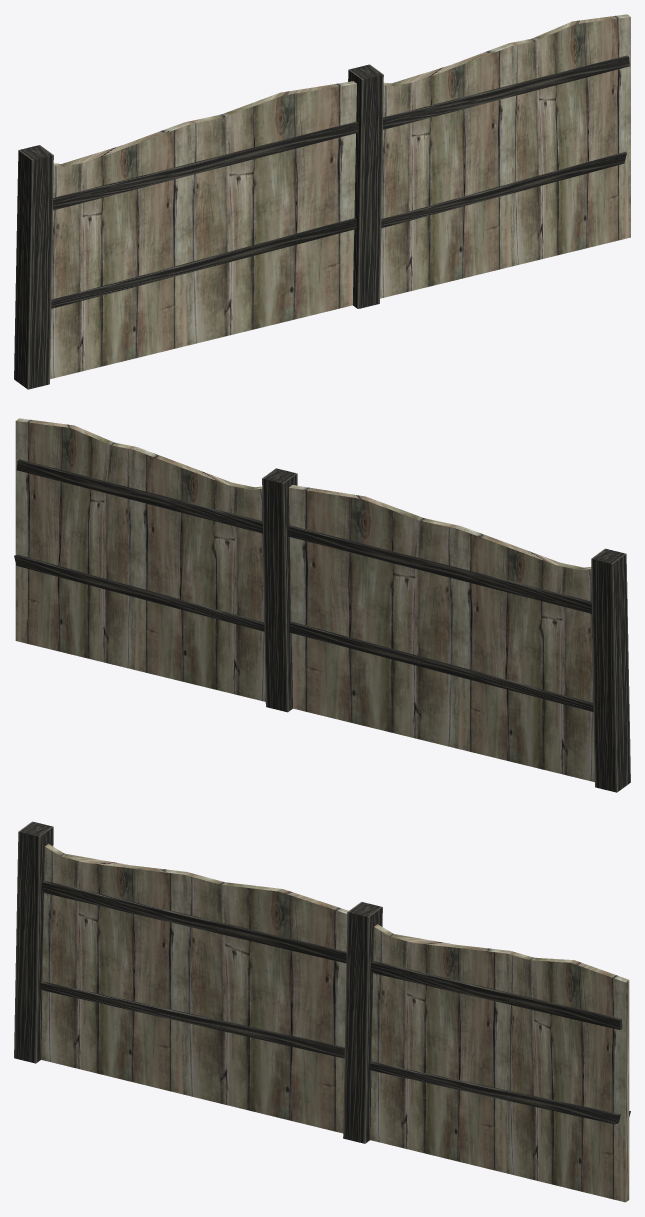
File: pir_m_bld_wal_shanty100.fbx
3 views of the same model, one above another, from view 1: azimuth 30°, elevation 25°; view 2: azimuth 150°, elevation 25°; view 3: azimuth 330°, elevation 25° (orthographic).
Parts seen in each view (by area): view 1: wall1, wall2, crossboard, cross_board, crossboard2, cross_board2; view 2: wall1, wall2, crossboard, cross_board, crossboard2, cross_board2; view 3: wall1, wall2, crossboard, cross_board, crossboard2, cross_board2.
Part boxes in pixels (x1=…): wall1: x1=14, y1=81, x2=356, y2=389; wall2: x1=348, y1=14, x2=630, y2=308; crossboard: x1=53, y1=121, x2=358, y2=210; cross_board: x1=51, y1=218, x2=356, y2=308; crossboard2: x1=383, y1=55, x2=629, y2=129; cross_board2: x1=381, y1=151, x2=626, y2=228; wall1: x1=289, y1=485, x2=630, y2=792; wall2: x1=15, y1=418, x2=297, y2=712; crossboard: x1=287, y1=525, x2=591, y2=613; cross_board: x1=289, y1=621, x2=593, y2=711; crossboard2: x1=16, y1=459, x2=262, y2=533; cross_board2: x1=14, y1=554, x2=264, y2=631; wall1: x1=14, y1=821, x2=348, y2=1133; wall2: x1=343, y1=902, x2=629, y2=1202; crossboard: x1=42, y1=880, x2=346, y2=963; cross_board: x1=40, y1=981, x2=344, y2=1058; crossboard2: x1=371, y1=961, x2=622, y2=1029; cross_board2: x1=369, y1=1061, x2=630, y2=1124.
Bounding box in the file's own units: 10310 × 3697 × 412.
2 materials, 2 textured.
